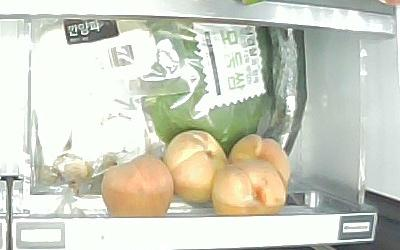peach: (163, 129, 227, 203), (101, 155, 175, 218), (213, 159, 284, 216), (229, 134, 290, 191)
